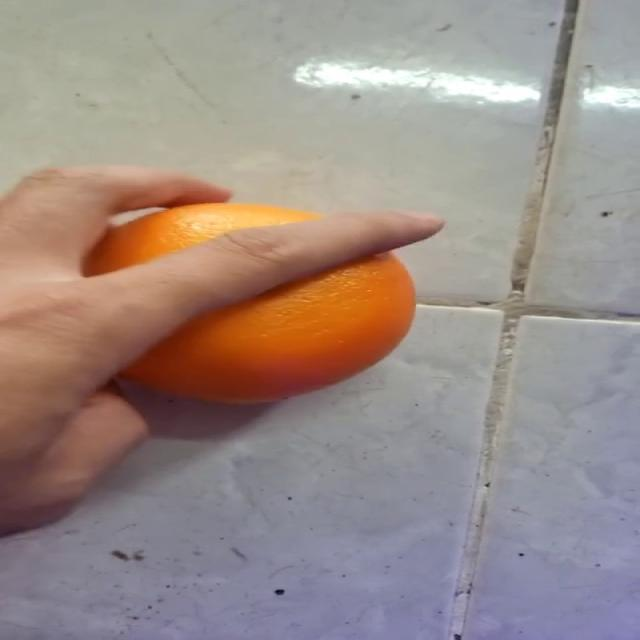Orange: (84, 200, 416, 405)
